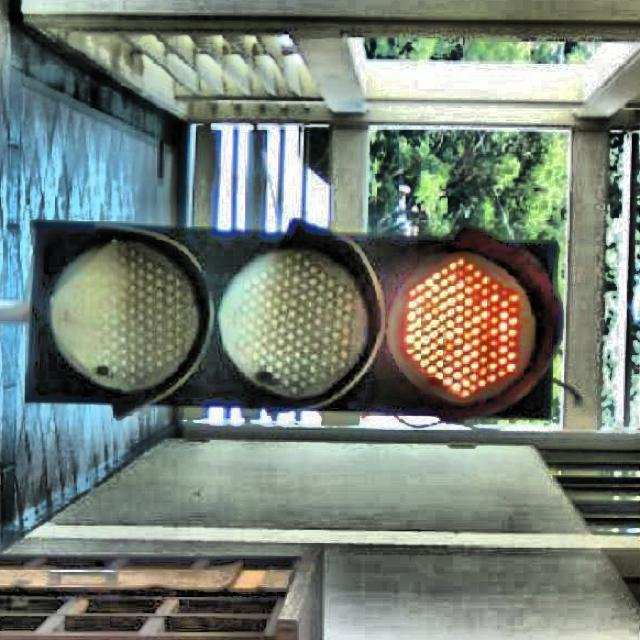red: (36, 233, 549, 408)
